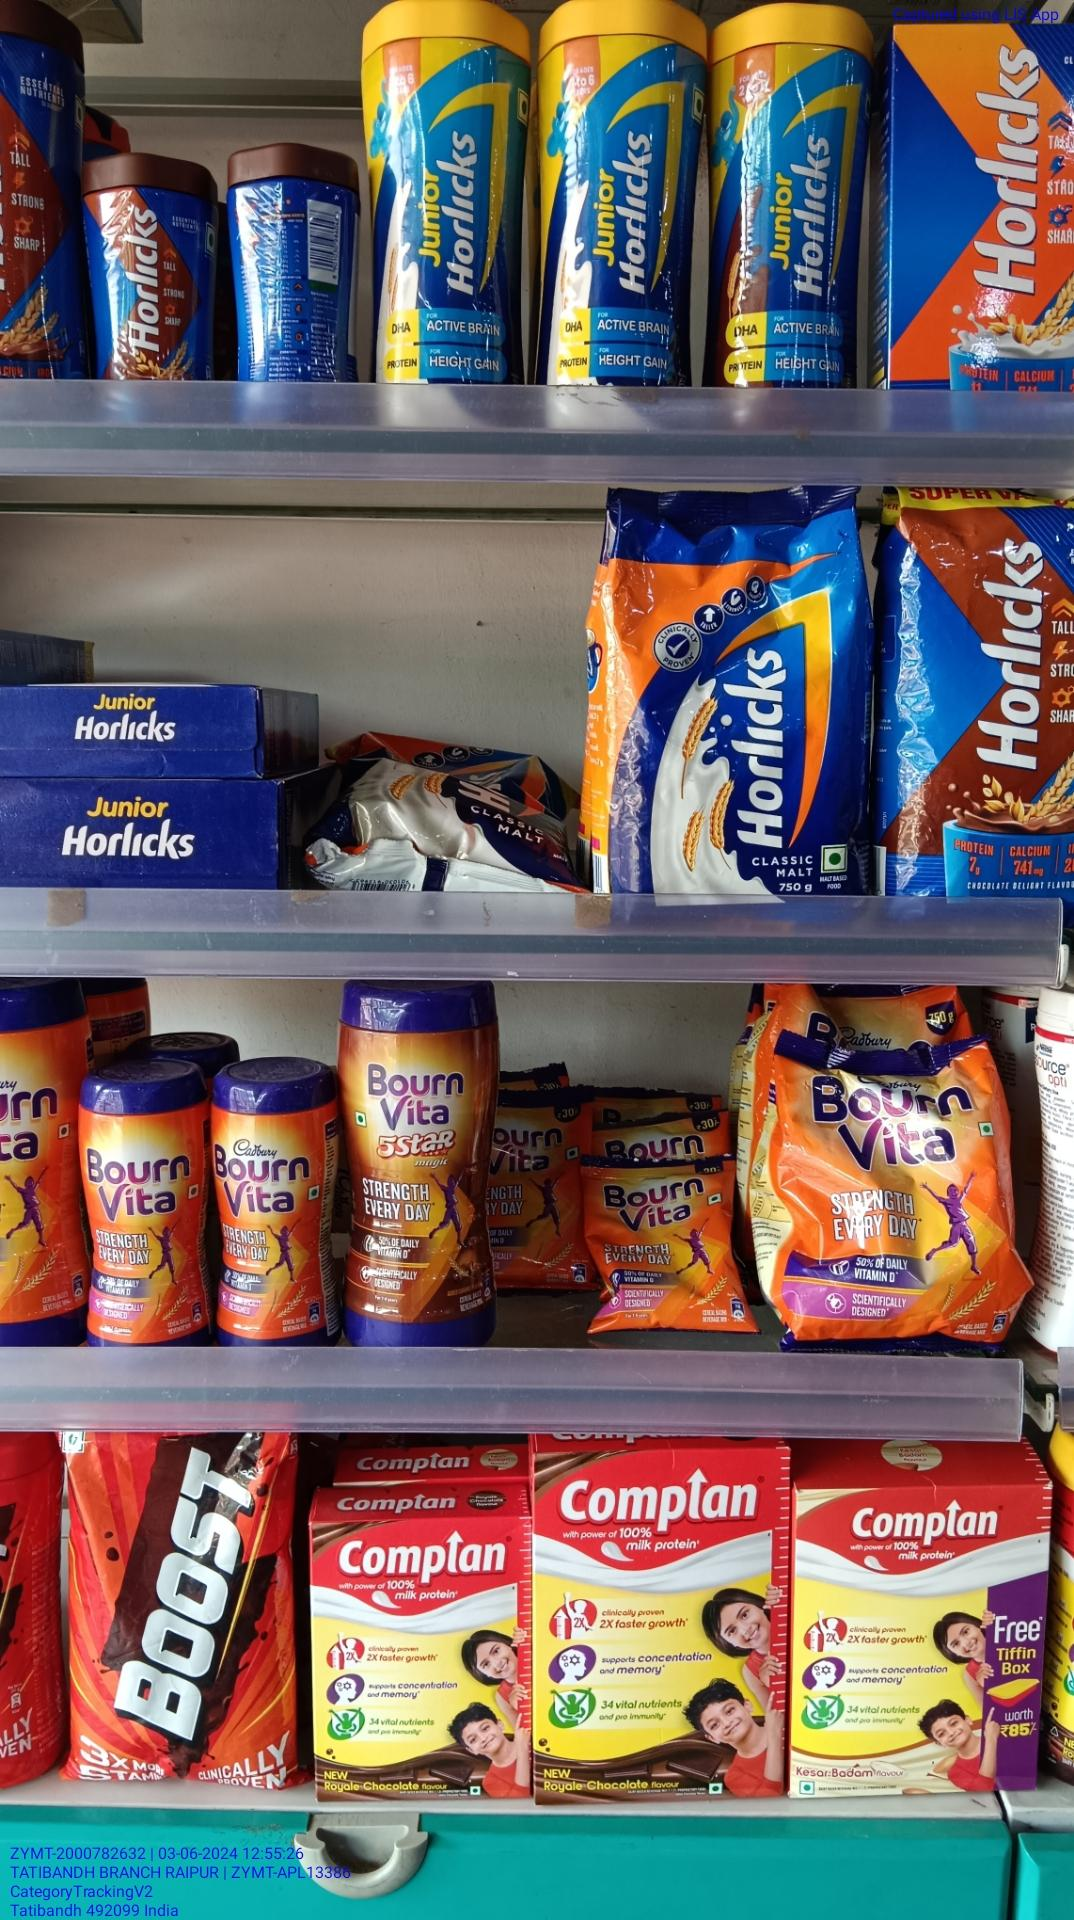BOURN_VITA_75_G_POUCH: (574, 1145, 761, 1340)
BOURN_VITA_FIVE_STAR_MAGIC_500_G_JAR: (339, 985, 501, 1346)
HORLICK_CLASSIC_MALT_750_G_POUCH: (607, 483, 867, 895)
